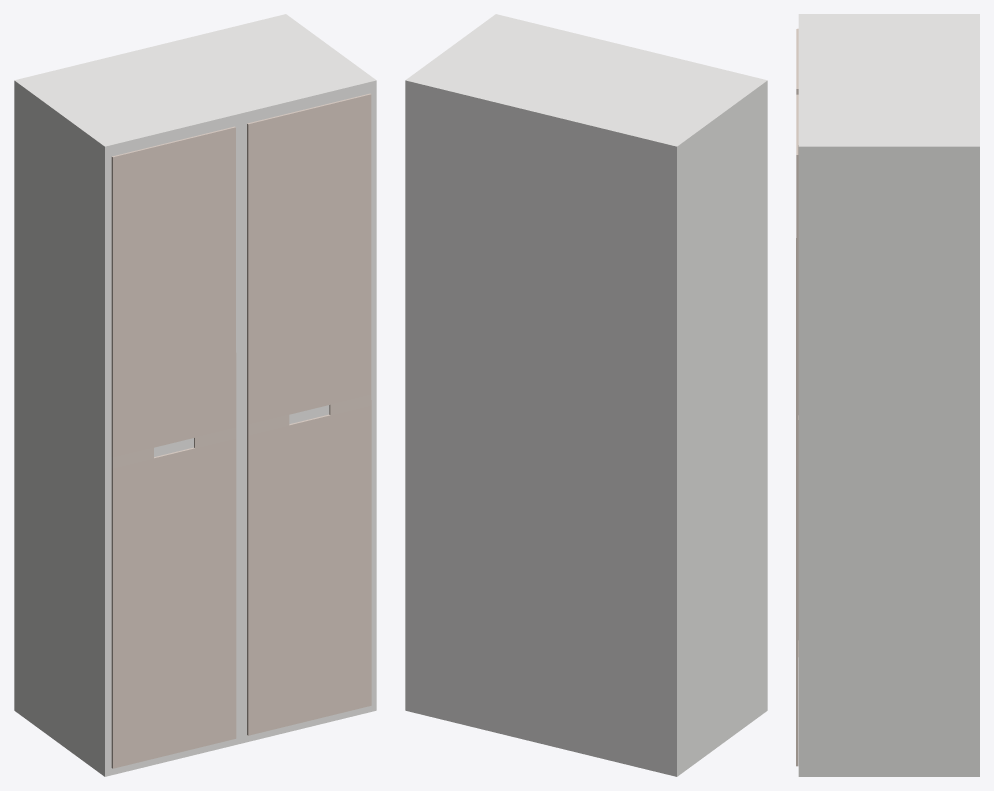
The model's file is Cupboard_5.fbx.
3 views of the same model, side by side, from view 1: azimuth 30°, elevation 25°; view 2: azimuth 150°, elevation 25°; view 3: azimuth 270°, elevation 25° (orthographic).
Parts seen in each view (by area): view 1: Cupboard_5; view 2: Cupboard_5; view 3: Cupboard_5.
Boxes of the visible parts, x1=… form: Cupboard_5: x1=14, y1=14, x2=376, y2=776; Cupboard_5: x1=405, y1=14, x2=767, y2=776; Cupboard_5: x1=796, y1=14, x2=979, y2=776.
Bounding box in the file's own units: 138 × 81.03 × 306.
